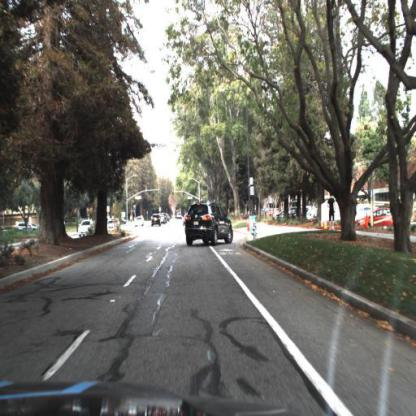car: (185, 200, 234, 246), (359, 206, 402, 233), (358, 208, 397, 231), (76, 219, 97, 239), (105, 218, 124, 236), (151, 211, 163, 228)
pedestrian: (328, 192, 340, 236)
